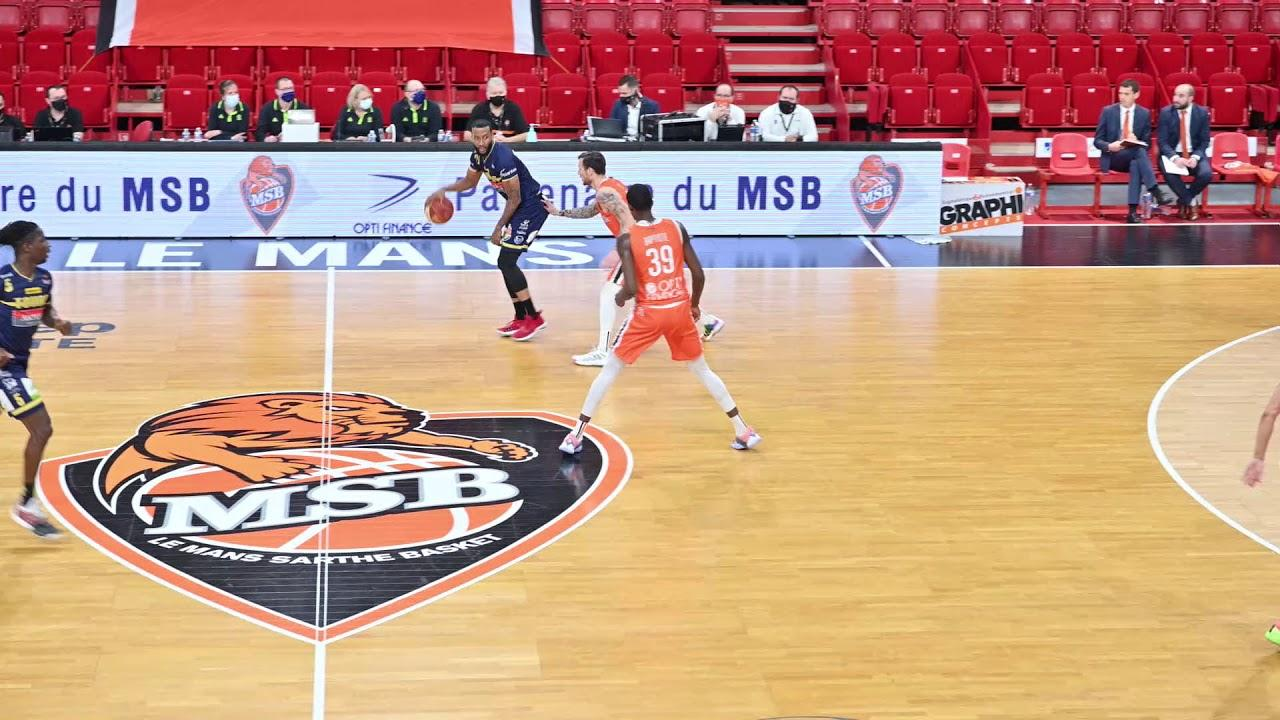basketball: (418, 194, 455, 223)
